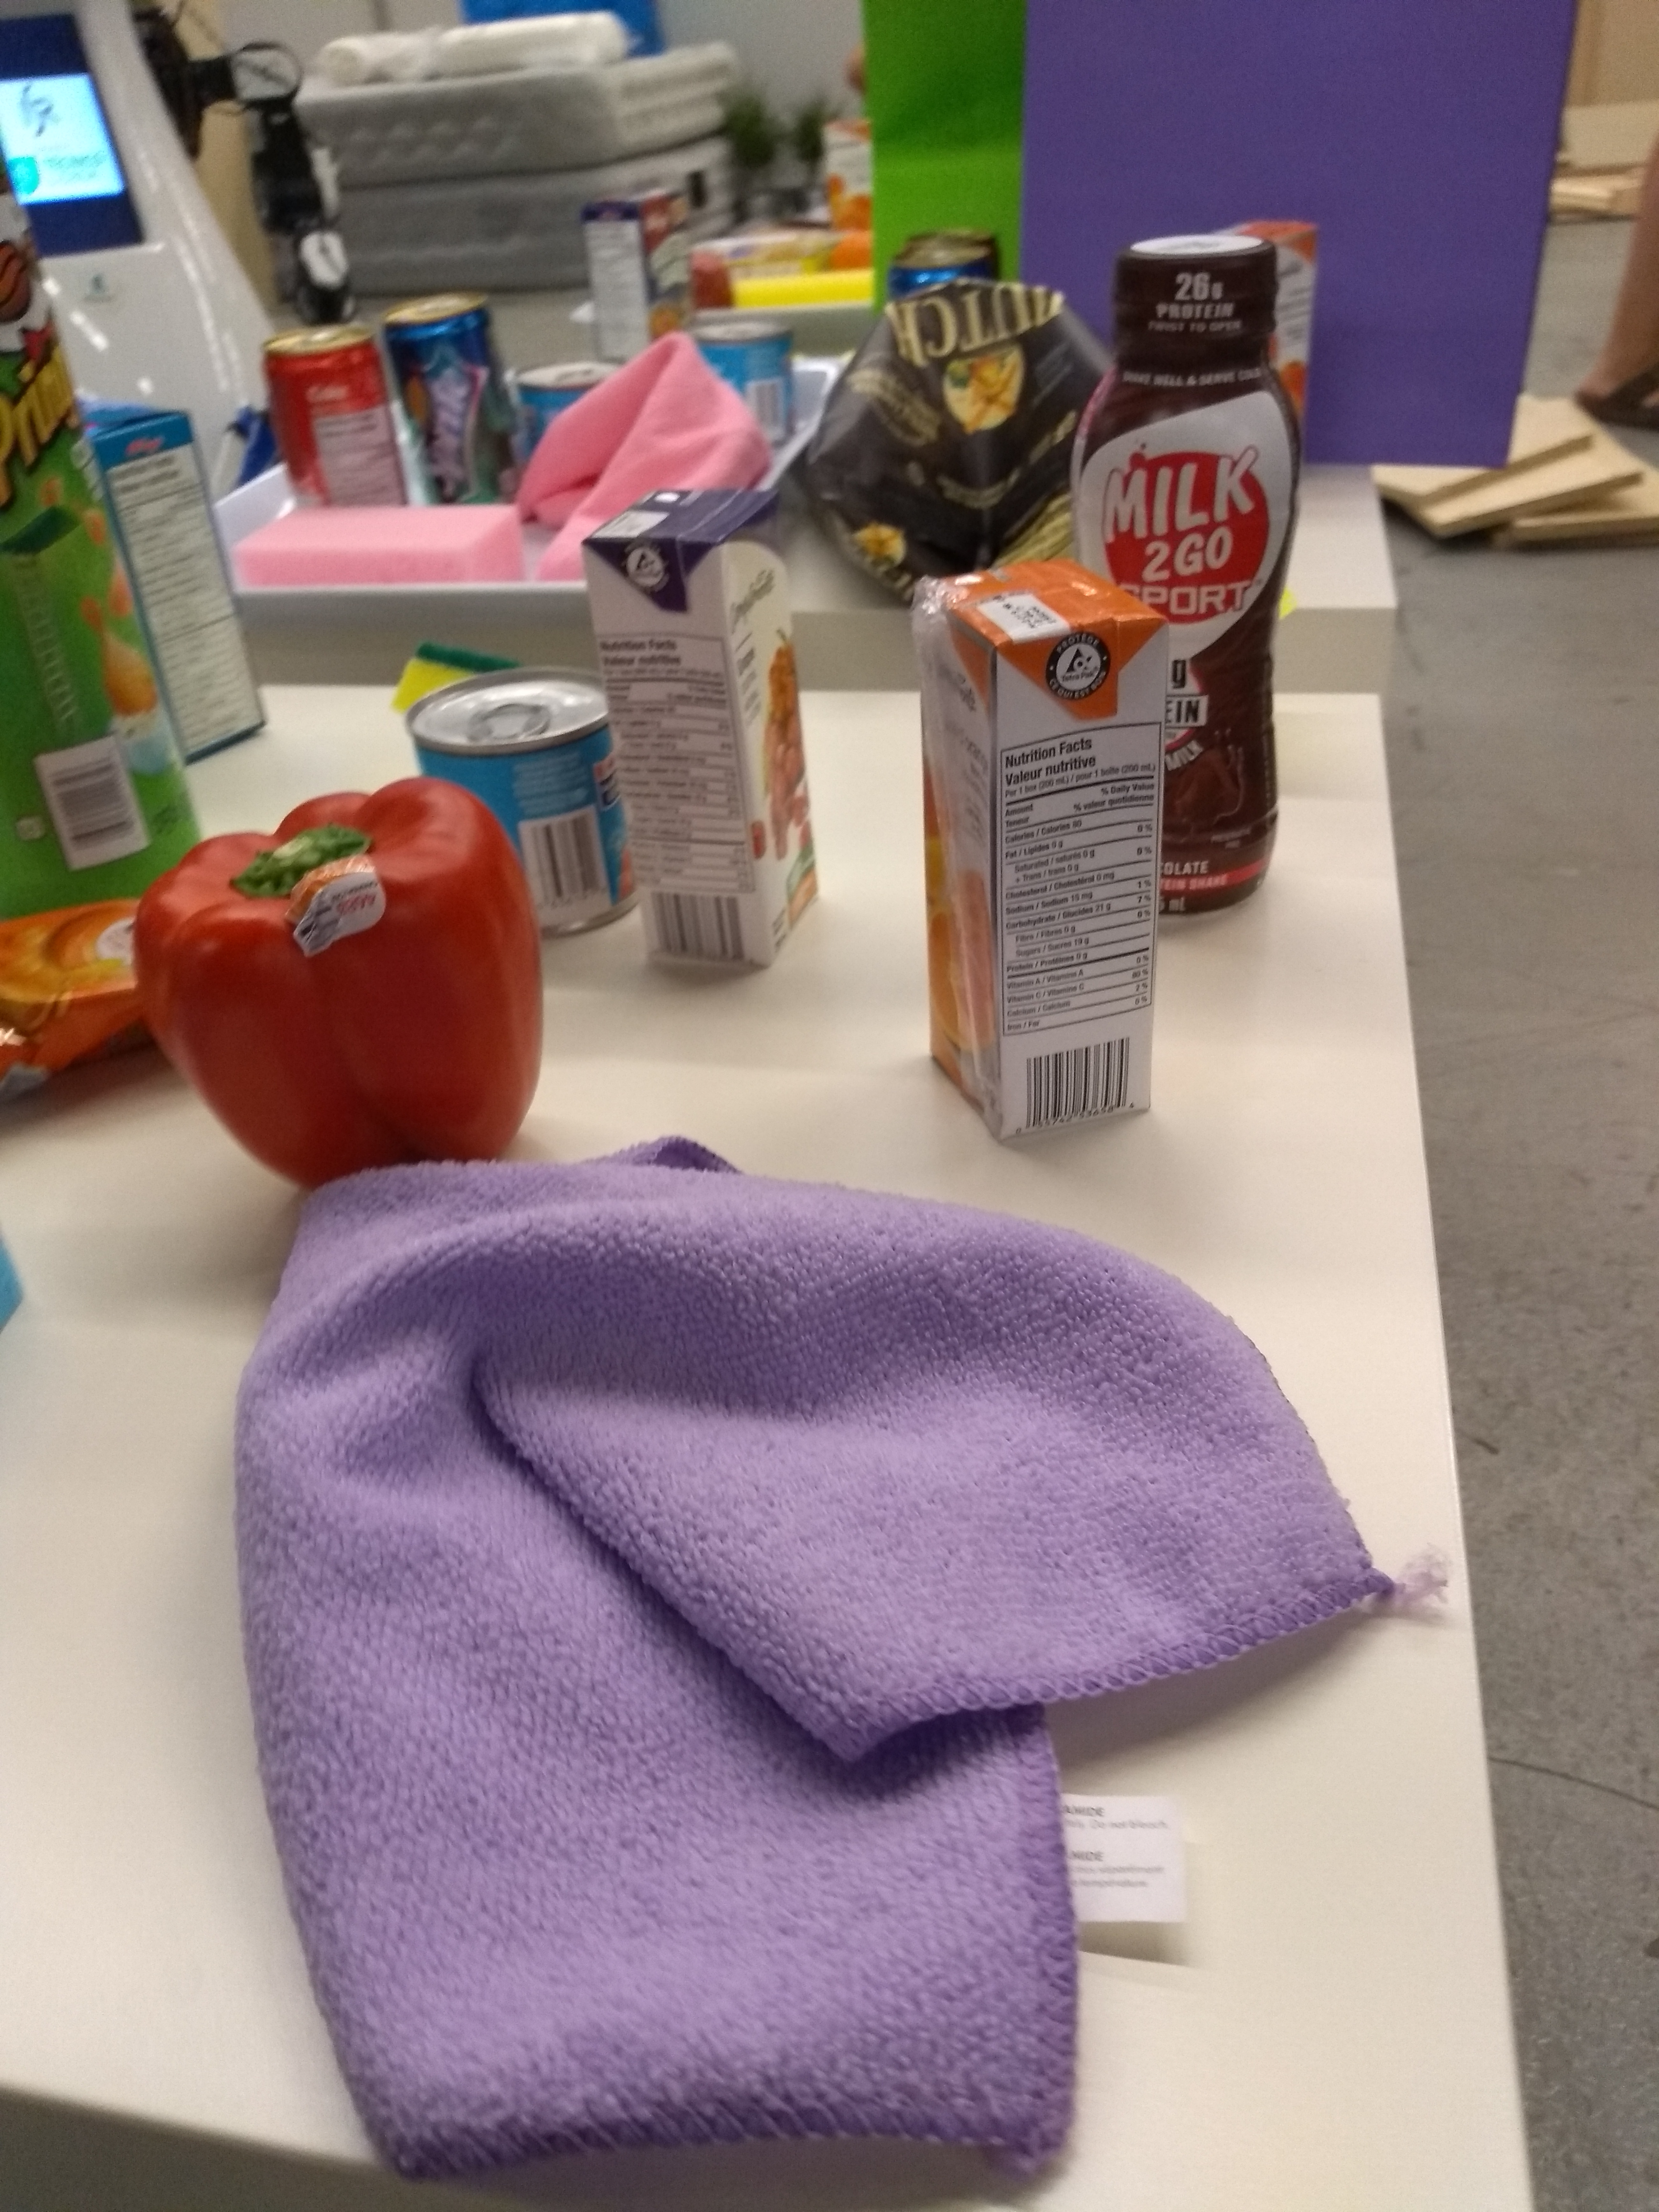cereal: (84, 381, 267, 752)
chocolate_drink: (1072, 232, 1305, 930)
cloth_opl: (232, 1139, 1488, 2184)
coke: (267, 312, 411, 533)
grape_juice: (580, 479, 833, 975)
orange_juice: (911, 561, 1171, 1157)
paprika: (132, 763, 559, 1195)
potato_chips: (803, 268, 1089, 603)
pringles: (0, 150, 179, 928)
sausages: (403, 667, 640, 928)
sprite: (385, 280, 526, 524)
